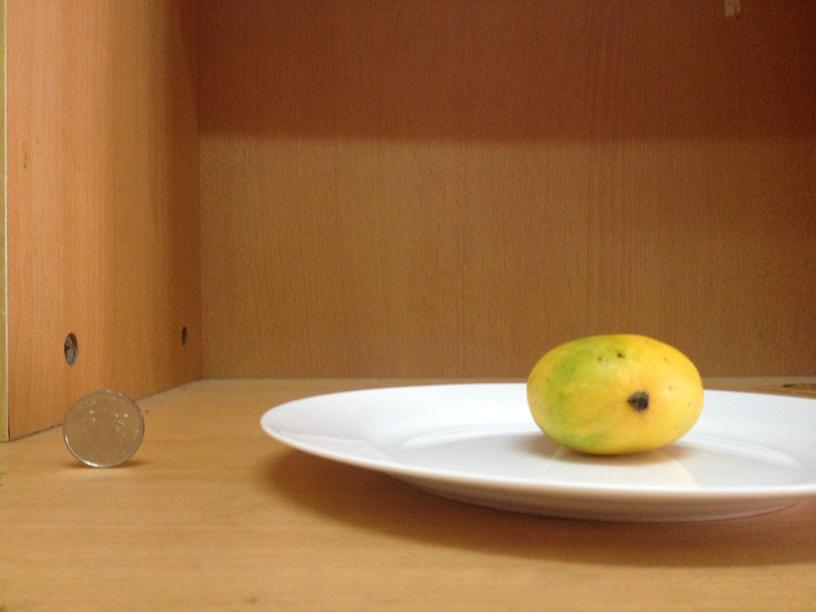coin: (56, 388, 144, 468)
mango: (526, 335, 705, 455)
